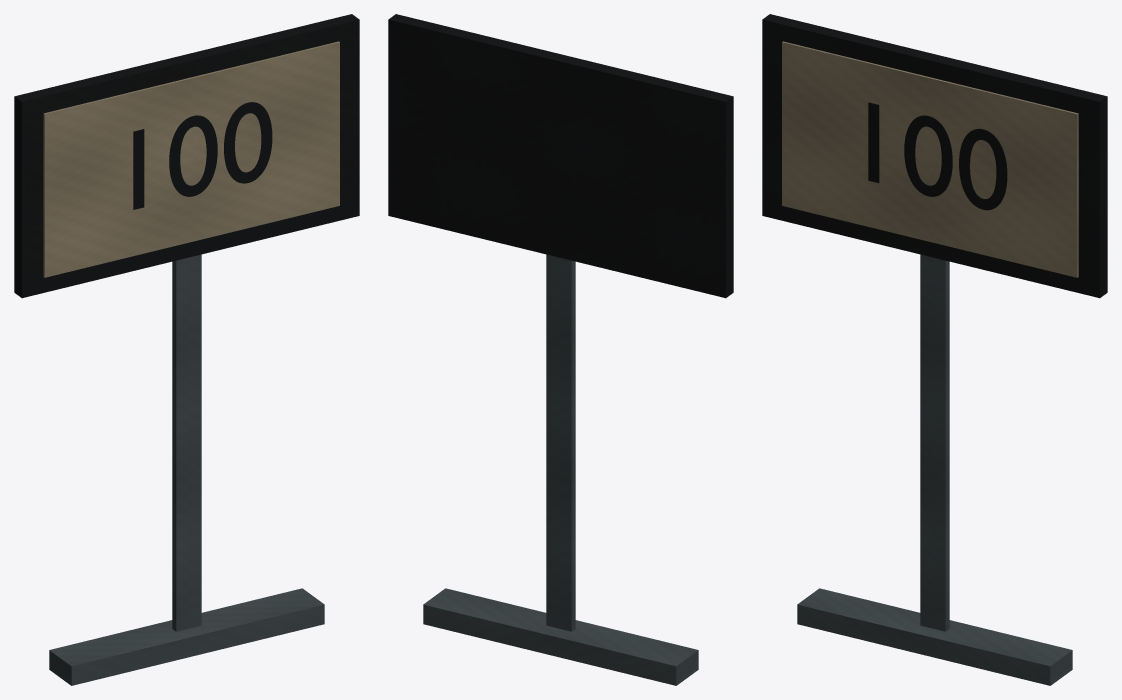
File: braking-board-100.glb
3 renders of one model, left to right at view 1: azimuth 30°, elevation 25°; view 2: azimuth 150°, elevation 25°; view 3: azimuth 330°, elevation 25°, orthographic.
Parts seen in each view (by area): view 1: braking-board-100-distance-board_2, braking-board-100-distance-board_1, braking-board-100-distance-board_0, distance-100; view 2: braking-board-100-distance-board_1, braking-board-100-distance-board_0; view 3: braking-board-100-distance-board_2, braking-board-100-distance-board_1, braking-board-100-distance-board_0, distance-100.
Boxes of the visible parts, x1=… form: braking-board-100-distance-board_2: x1=43, y1=41, x2=339, y2=277; braking-board-100-distance-board_1: x1=14, y1=14, x2=359, y2=298; braking-board-100-distance-board_0: x1=49, y1=254, x2=324, y2=685; distance-100: x1=133, y1=102, x2=272, y2=209; braking-board-100-distance-board_1: x1=388, y1=14, x2=733, y2=298; braking-board-100-distance-board_0: x1=423, y1=254, x2=698, y2=685; braking-board-100-distance-board_2: x1=782, y1=41, x2=1078, y2=277; braking-board-100-distance-board_1: x1=762, y1=14, x2=1107, y2=298; braking-board-100-distance-board_0: x1=797, y1=254, x2=1072, y2=685; distance-100: x1=868, y1=102, x2=1007, y2=210.
Size of the model in its own units: 1.05 by 1.75 by 0.12.
3 materials, 3 textured.
